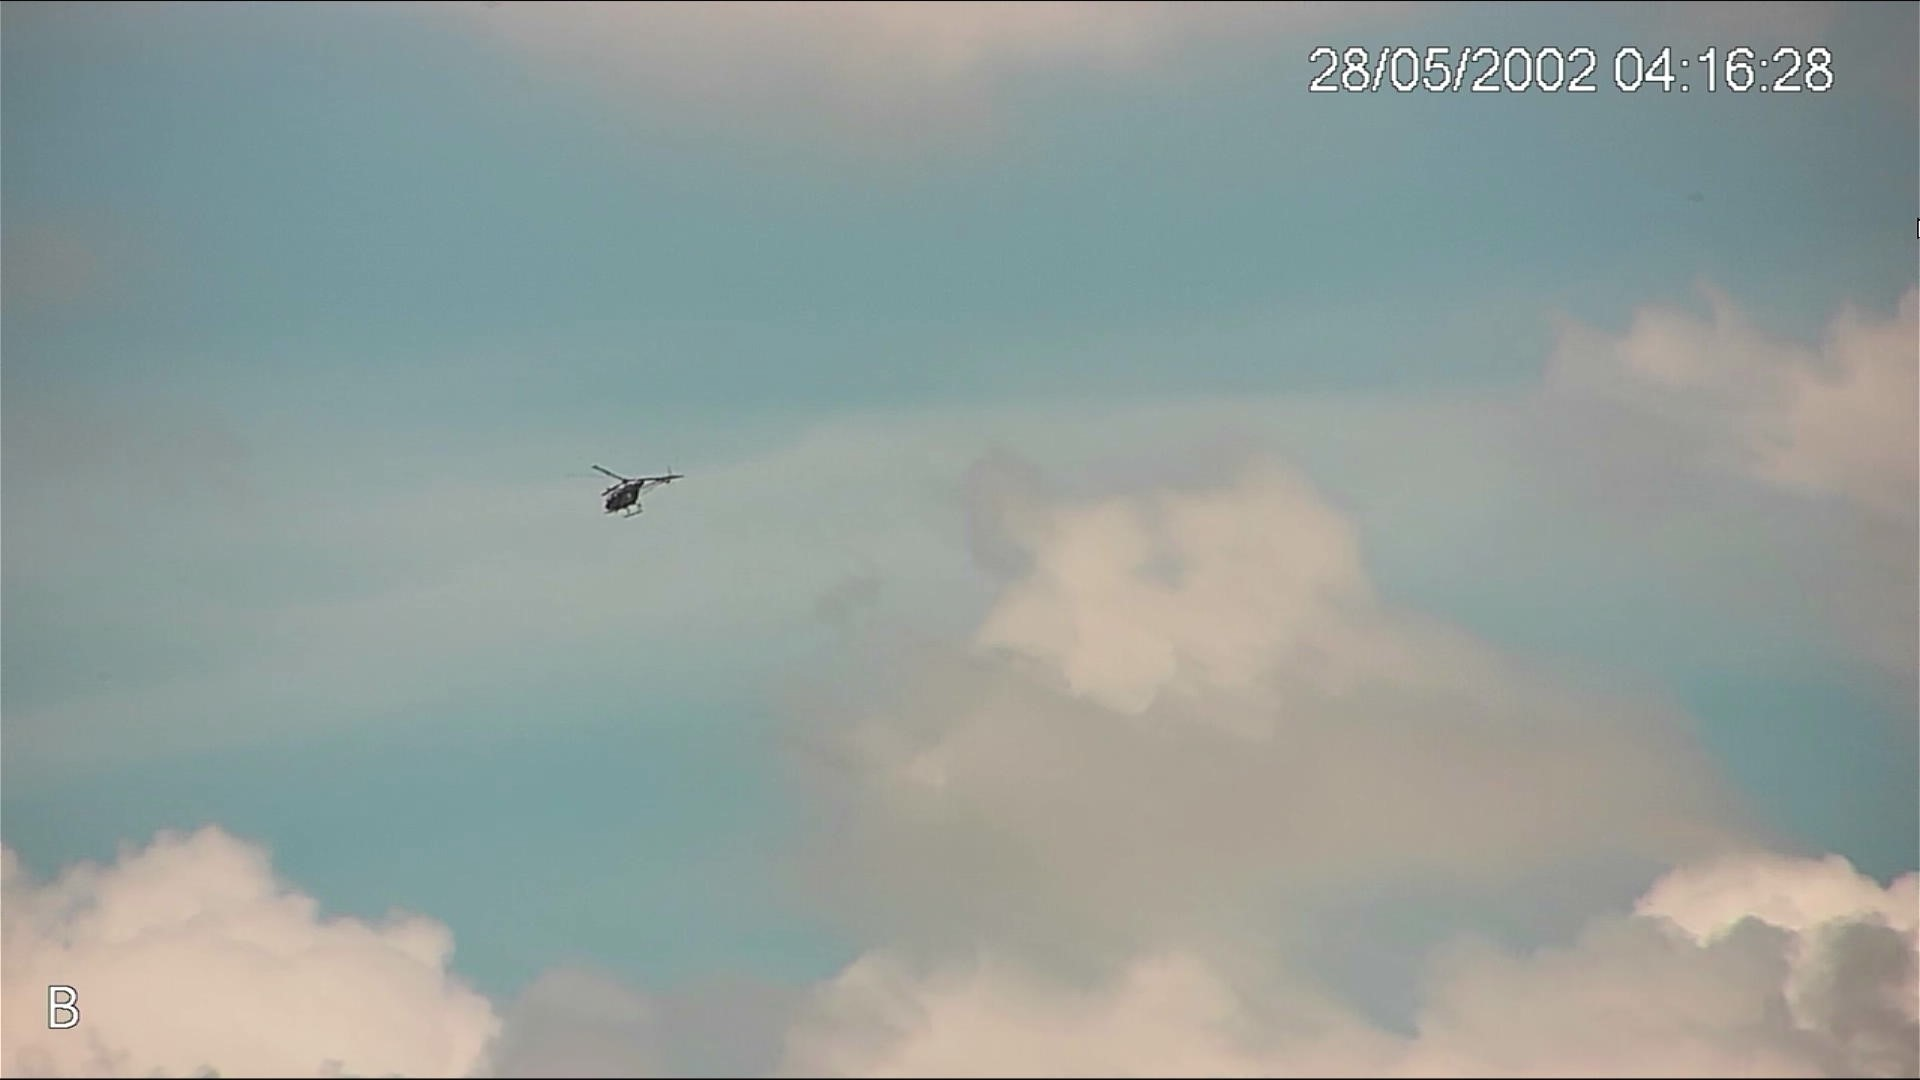SU_30: (591, 479, 662, 520)
